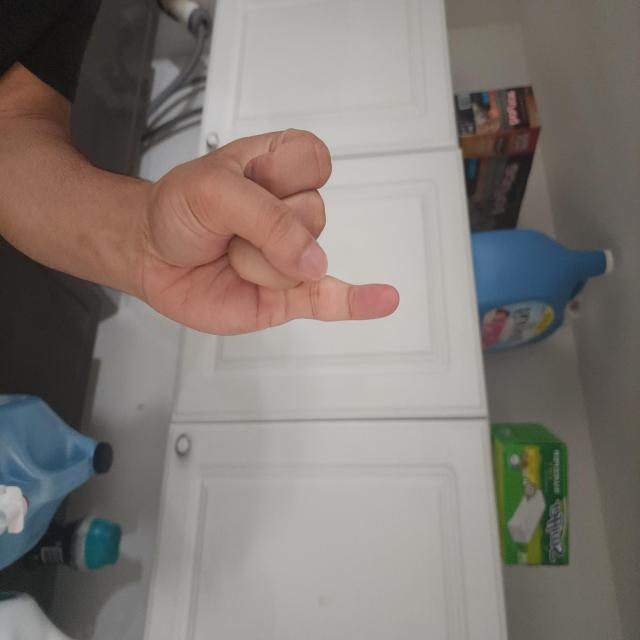I: (249, 313, 417, 640)
